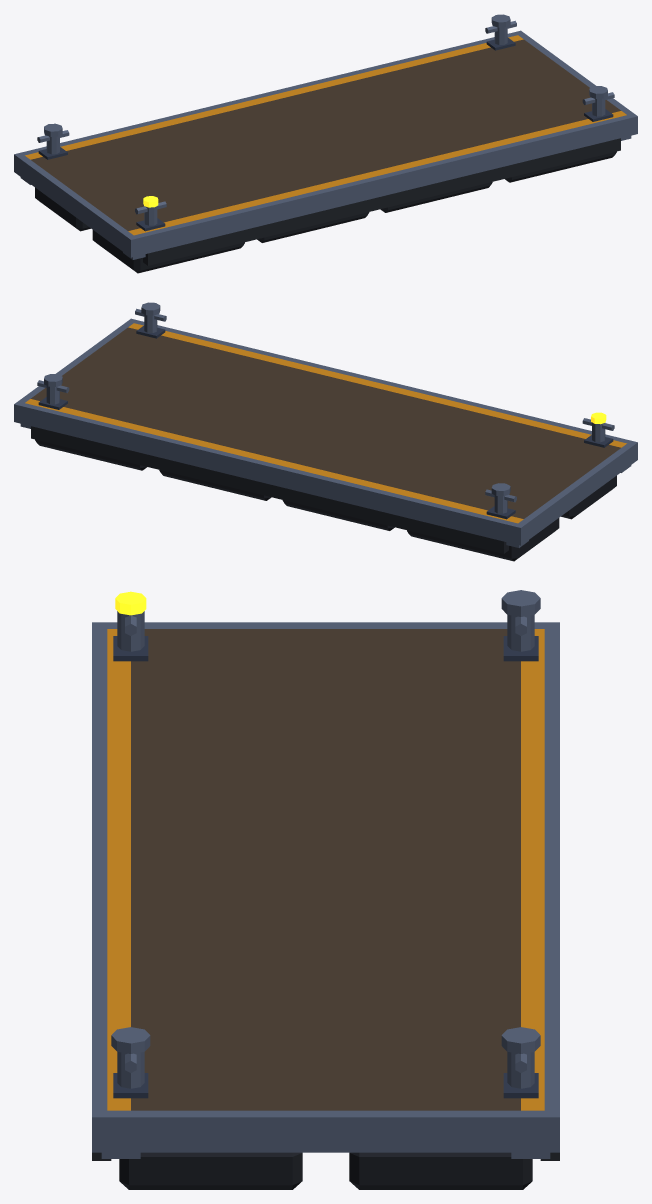
File: dock_pontoon.glb
3 renders of one model, top to bottom at view 1: azimuth 30°, elevation 25°; view 2: azimuth 150°, elevation 25°; view 3: azimuth 270°, elevation 25°, orthographic. The views are drawn at different scales.
Visible parts, largest first — view 1: walk_slab, fender, float, frame, cleat_base; view 2: walk_slab, fender, float, frame, cleat_base; view 3: walk_slab, float, frame, cleat_base.
Boxes of the visible parts, box(x1,y1,x2,y2) form: walk_slab: box(14, 30, 637, 257); fender: box(143, 138, 620, 265); float: box(35, 151, 616, 273); frame: box(20, 14, 631, 259); cleat_base: box(38, 37, 613, 231); walk_slab: box(14, 318, 637, 545); fender: box(31, 426, 508, 553); float: box(35, 439, 616, 561); frame: box(20, 302, 631, 547); cleat_base: box(38, 325, 613, 519); walk_slab: box(92, 622, 559, 1152); float: box(119, 1152, 532, 1189); frame: box(101, 590, 550, 1158); cleat_base: box(113, 636, 538, 1098).
Bounding box in the file's own units: 6 × 0.8 × 2.4.
